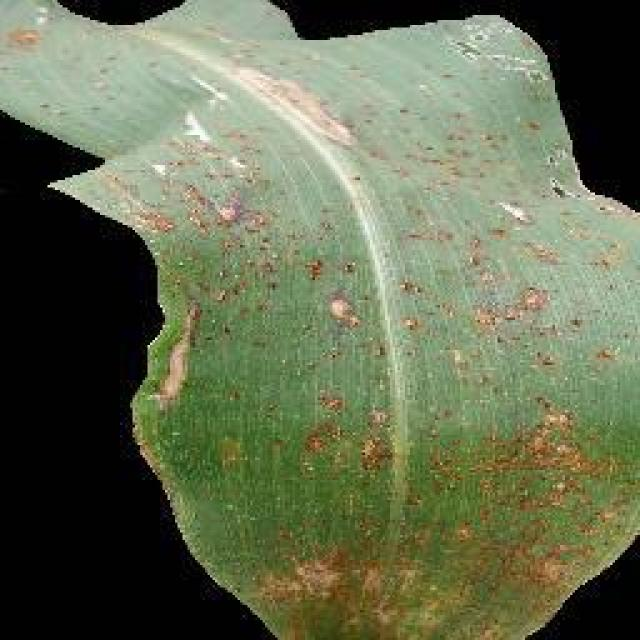Corn Common Rust: (90, 72, 638, 588)
